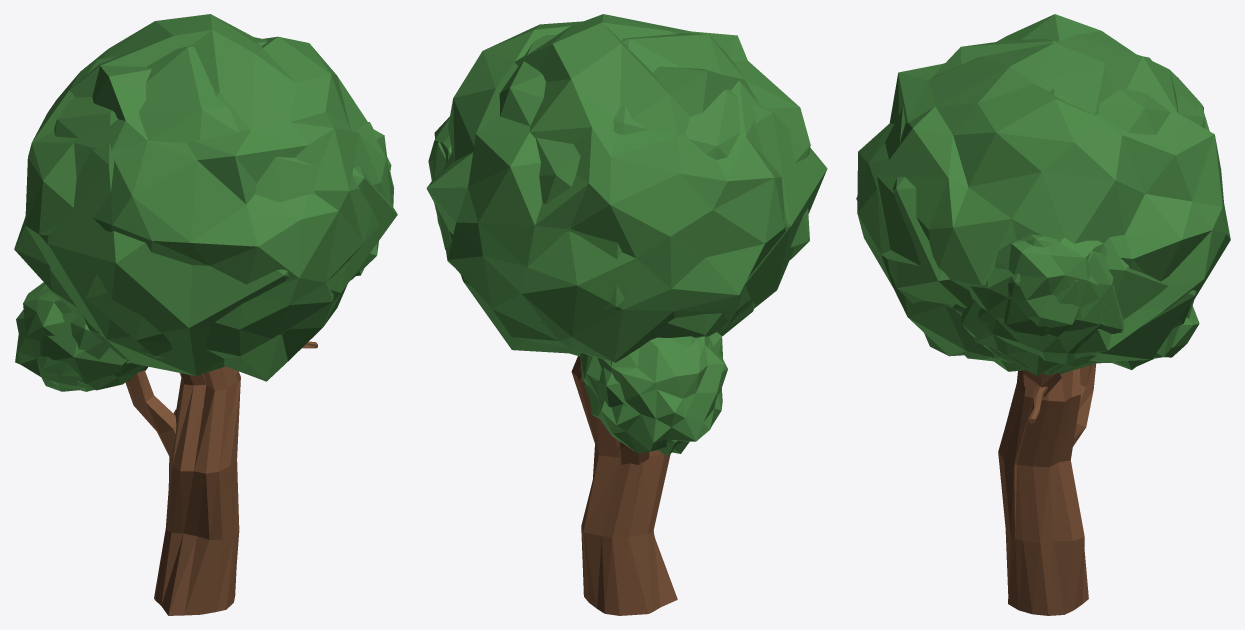
The model's file is Norm.fbx.
3 views of the same model, side by side, from view 1: azimuth 30°, elevation 25°; view 2: azimuth 150°, elevation 25°; view 3: azimuth 270°, elevation 25° (orthographic). The views are drawn at different scales.
Visible parts, largest first — view 1: GeneratedLeaves, LOD_Test_2, GeneratedBranch, GeneratedLeaves_1, LOD_Test, GeneratedBranch_1; view 2: GeneratedLeaves, LOD_Test_2, GeneratedBranch, GeneratedLeaves_1, LOD_Test, LOD_Test_1, GeneratedLeaves_2; view 3: GeneratedLeaves, GeneratedBranch, LOD_Test_2, GeneratedLeaves_2, LOD_Test_1, GeneratedBranch_1, GeneratedLeaves_1, GeneratedBranch_2.
Part boxes in pixels (x1,y1,x2,y2): GeneratedLeaves: (14,14,393,381); LOD_Test_2: (47,36,397,376); GeneratedBranch: (154,366,240,615); GeneratedLeaves_1: (15,282,144,391); LOD_Test: (40,291,148,391); GeneratedBranch_1: (125,370,176,458); GeneratedLeaves: (426,14,810,362); LOD_Test_2: (442,32,827,353); GeneratedBranch: (571,356,677,615); GeneratedLeaves_1: (580,332,724,453); LOD_Test: (588,336,727,455); LOD_Test_1: (432,141,451,251); GeneratedLeaves_2: (428,116,451,253); GeneratedLeaves: (857,14,1230,373); GeneratedBranch: (998,368,1088,615); LOD_Test_2: (856,38,1205,361); GeneratedLeaves_2: (953,236,1122,375); LOD_Test_1: (961,234,1123,375); GeneratedBranch_1: (1073,363,1095,446); GeneratedLeaves_1: (1112,306,1199,369); GeneratedBranch_2: (1023,370,1061,397).
Size of what is drawn, in the model's own units: 745 by 1162 by 698.
